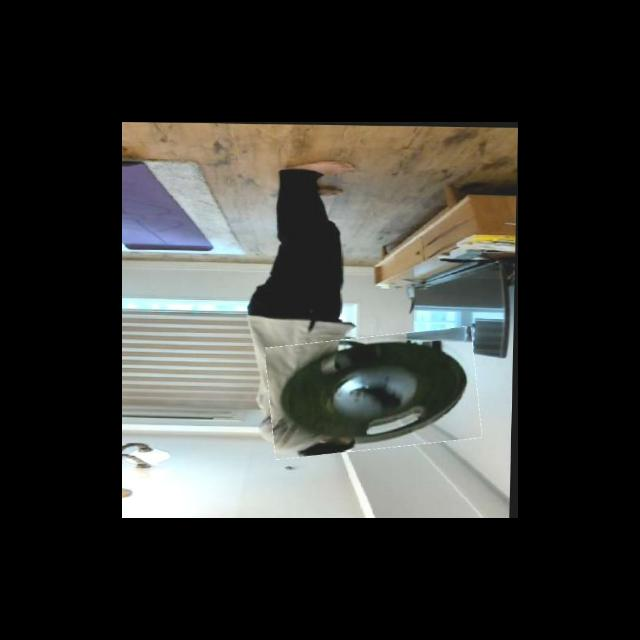barbell: (267, 329, 482, 456)
